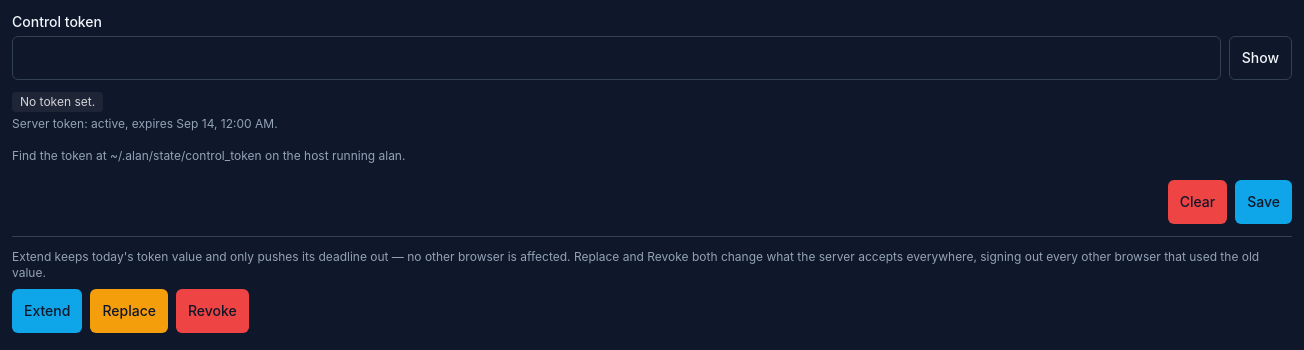
it: ControlTokenSection › buttons disable while an action is in flight, showing a busy label
This screenshot has width=1304, height=350.
Click the button with test id "control-token-extend". click: (47, 311)
box: top-left (12, 289), bottom-right (82, 333)
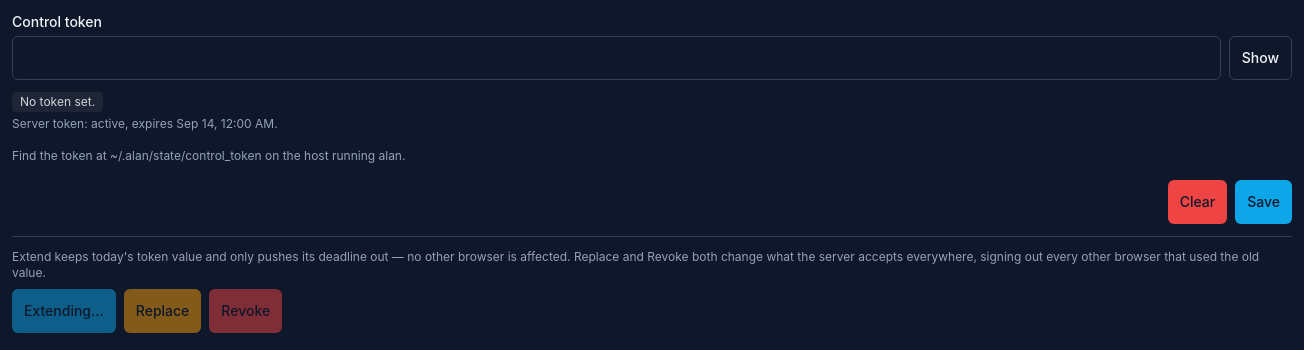
Result: the button with test id "control-token-extend" is disabled at top-left (12, 289), bottom-right (116, 333)
Result: the button with test id "control-token-extend" reads "Extending…" at top-left (12, 289), bottom-right (116, 333)
Result: the button with test id "control-token-replace" is disabled at top-left (124, 289), bottom-right (201, 333)
